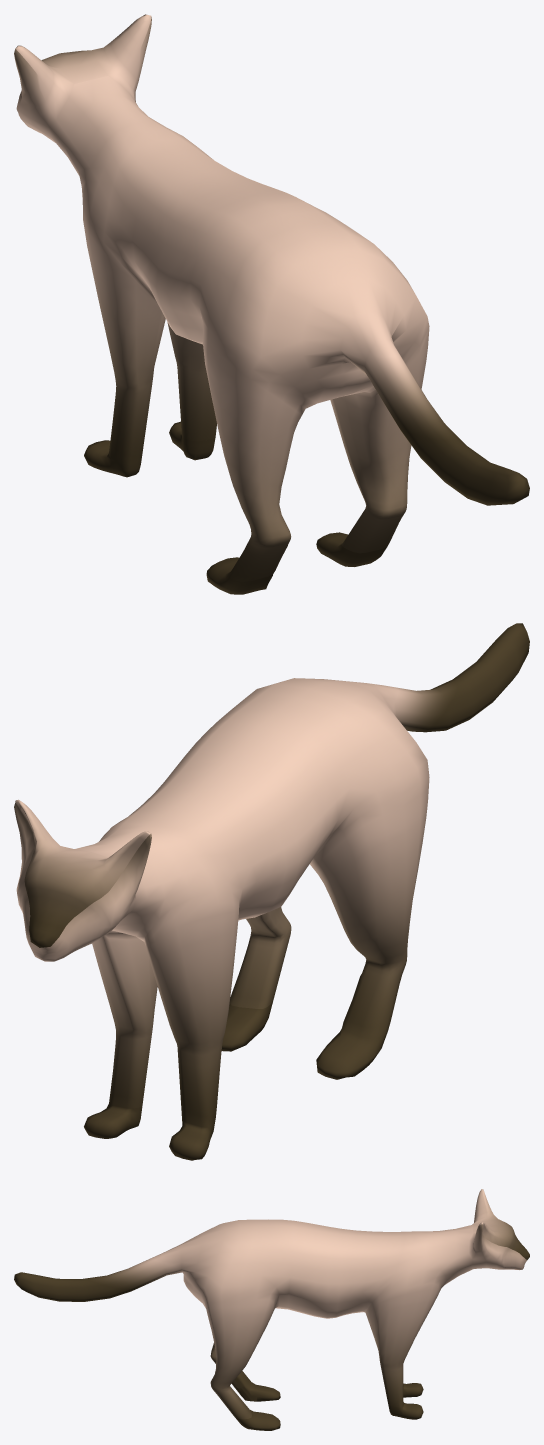
The model's file is CatTex.fbx.
The picture shows the model from 3 angles, top to bottom: view 1: azimuth 30°, elevation 25°; view 2: azimuth 150°, elevation 25°; view 3: azimuth 270°, elevation 25°; orthographic projection. The views are drawn at different scales.
Visible parts, largest first — view 1: Cat:pCube1; view 2: Cat:pCube1; view 3: Cat:pCube1.
Boxes of the visible parts, left/top/right/bottom form: Cat:pCube1: left=14, top=14, right=529, bottom=594; Cat:pCube1: left=14, top=623, right=529, bottom=1160; Cat:pCube1: left=14, top=1189, right=529, bottom=1430.
Bounding box in the file's own units: 2.46 × 4.9 × 11.07.
